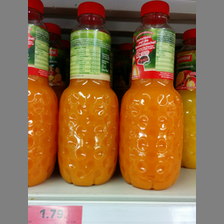juice: (118, 1, 185, 191), (58, 1, 119, 187)
